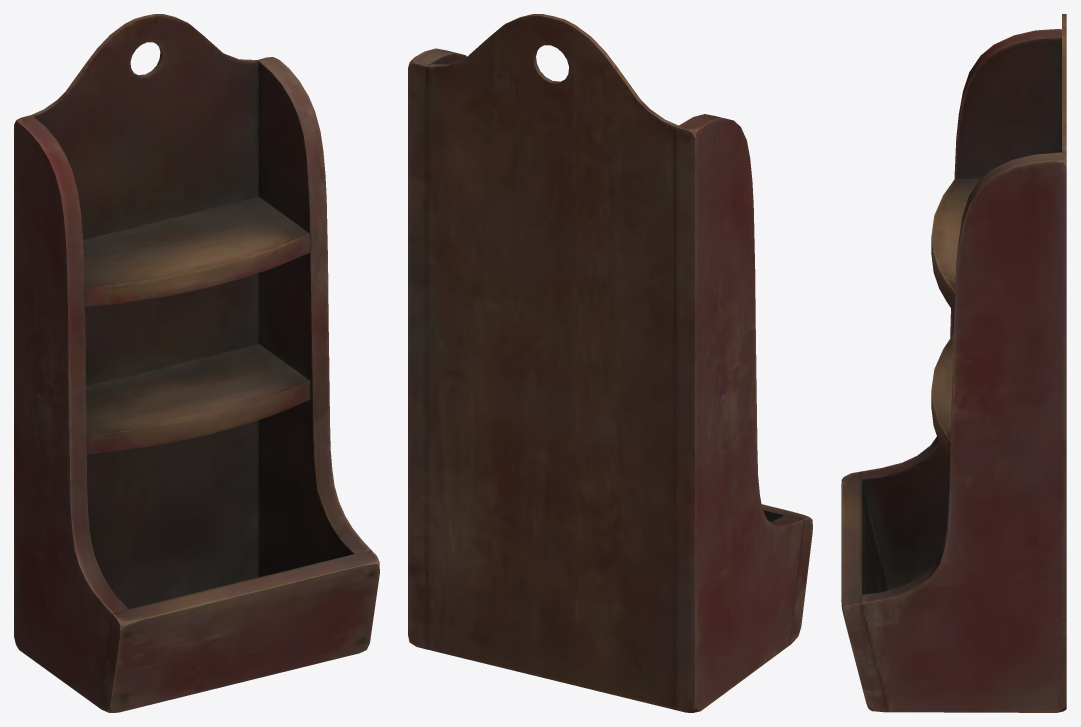
File: painted_wooden_shelves.glb
The picture shows the model from 3 angles, left to right: view 1: azimuth 30°, elevation 25°; view 2: azimuth 150°, elevation 25°; view 3: azimuth 270°, elevation 25°; orthographic projection. The views are drawn at different scales.
Parts seen in each view (by area): view 1: painted_wooden_shelves; view 2: painted_wooden_shelves; view 3: painted_wooden_shelves.
Part boxes in pixels (x1,y1,x2,y2): painted_wooden_shelves: [14, 14, 379, 712]; painted_wooden_shelves: [408, 14, 812, 712]; painted_wooden_shelves: [841, 14, 1066, 712].
Size of the model in its own units: 0.5111 by 1.13 by 0.3671.
1 material, 1 textured.
